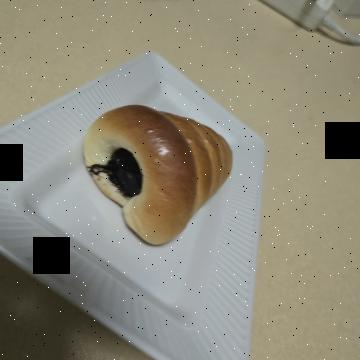cream horn: (79, 112, 243, 287)
